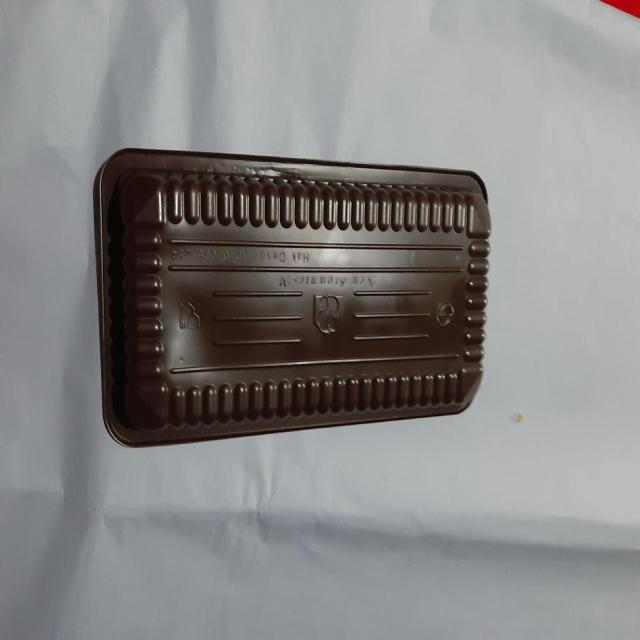KemasanPlastik: (92, 146, 492, 447)
